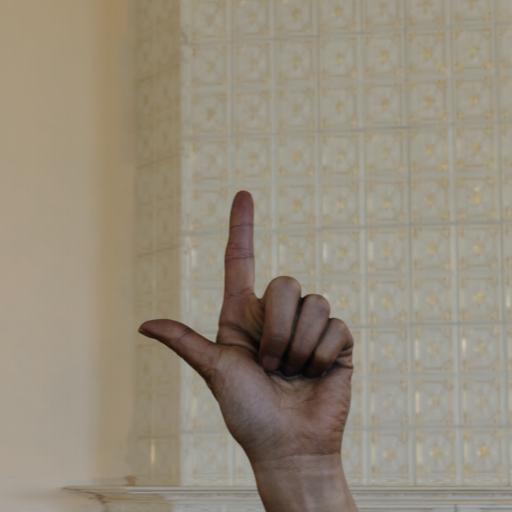L: (118, 162, 418, 512)
